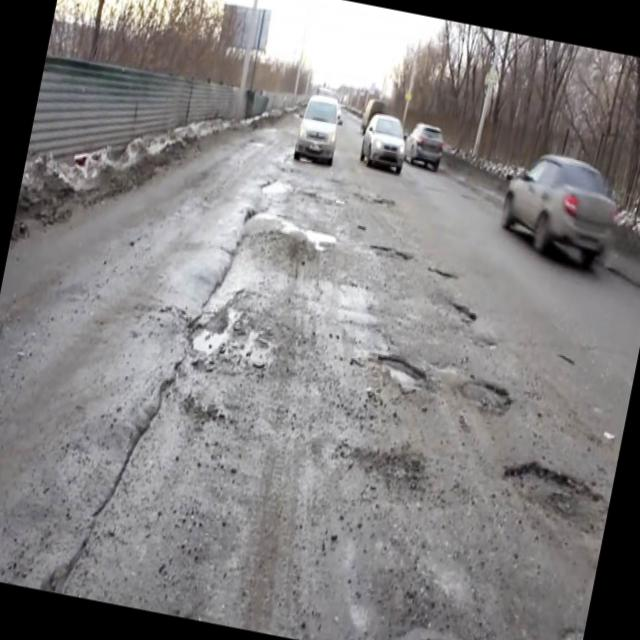Potholes: (496, 418, 623, 556), (186, 298, 298, 377), (232, 193, 344, 270), (449, 364, 539, 432), (358, 339, 438, 402), (439, 292, 484, 342), (373, 235, 418, 276), (424, 258, 462, 292)
